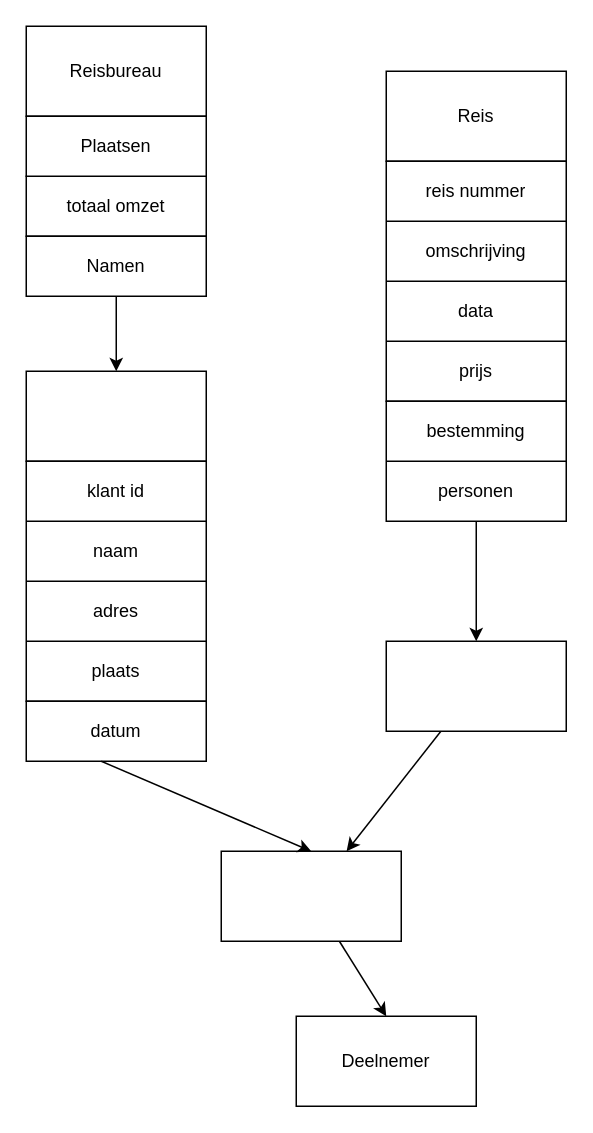
This 593x1133 diagram has some shape labels left out. The box of each missing label's shape, as (x1, y1, x2, y2) in pixels:
Klant: (25, 370, 206, 461)
Reisperiode: (385, 640, 566, 731)
Reisreservering: (220, 850, 401, 941)
